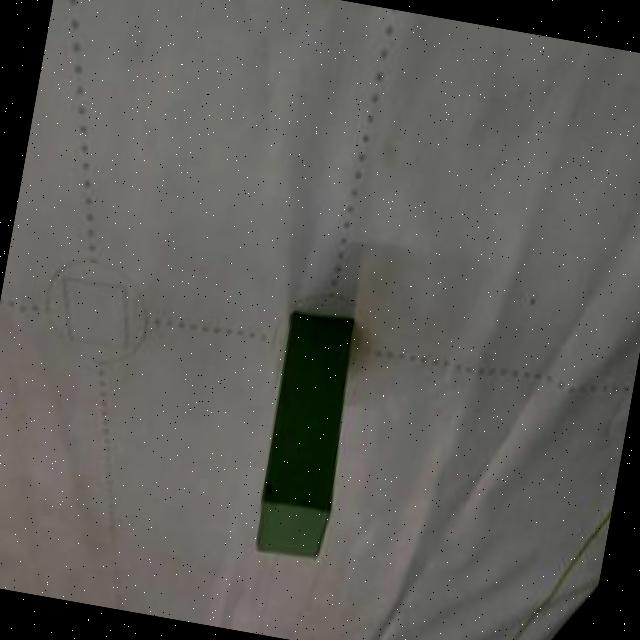greenbox: (247, 301, 363, 566)
